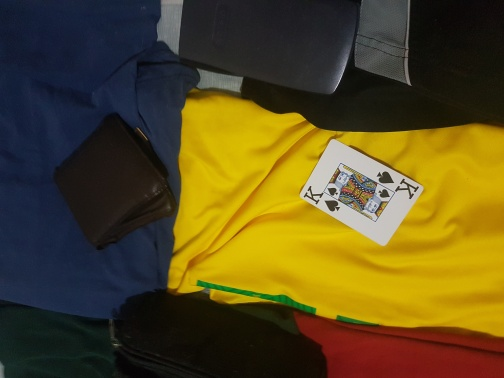king: (299, 139, 424, 246)
